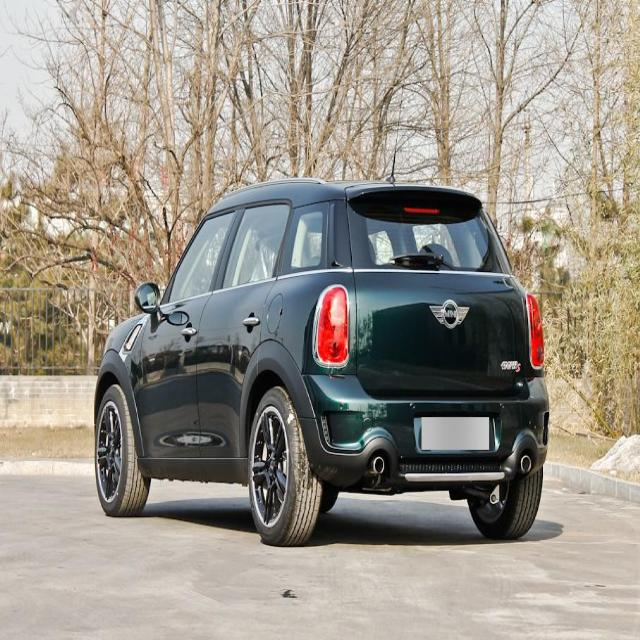back_glass: (348, 189, 513, 276)
back_left_side_light: (313, 282, 352, 371)
back_right_side_light: (524, 287, 548, 371)
door: (201, 202, 298, 457)
front_left_side_door: (140, 205, 241, 463)
front_left_side_mirror: (134, 279, 164, 316)
rear_bumper: (294, 371, 556, 480)
wheel: (246, 385, 324, 546), (92, 382, 152, 518), (462, 460, 544, 542)
